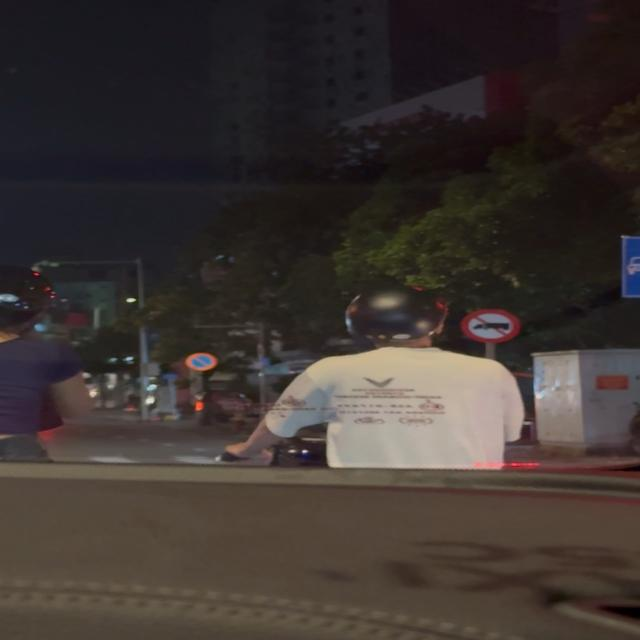Bien bao cam do xe: (183, 350, 223, 372)
Bien bao cam xe so-mi ro-mooc: (456, 308, 528, 346)
